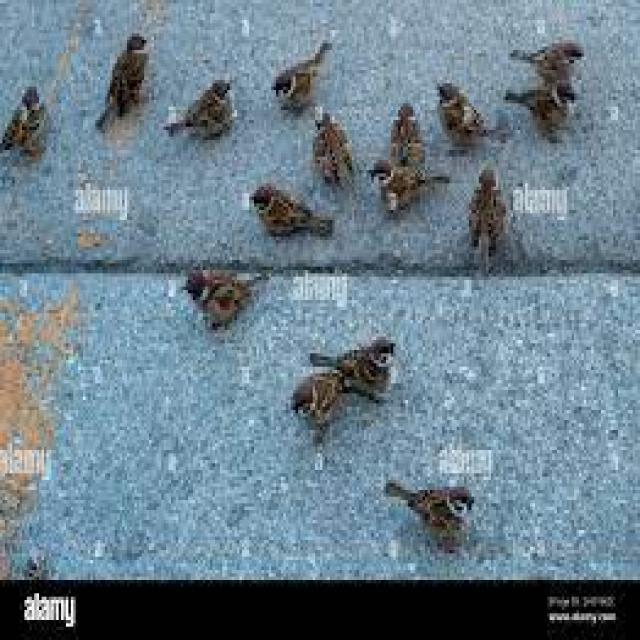bird: (92, 32, 151, 138), (385, 478, 473, 547), (310, 329, 400, 396), (250, 178, 337, 242), (184, 265, 257, 335), (158, 80, 238, 143), (368, 160, 451, 213), (274, 41, 331, 109), (306, 115, 352, 182), (438, 83, 484, 149)
